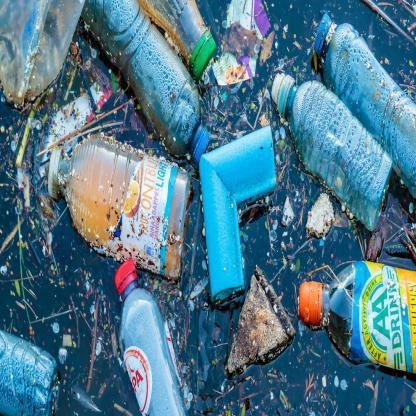Plastic: (47, 129, 191, 285), (79, 0, 215, 159), (310, 7, 415, 202), (276, 69, 395, 234), (295, 249, 415, 378), (108, 257, 197, 415)
